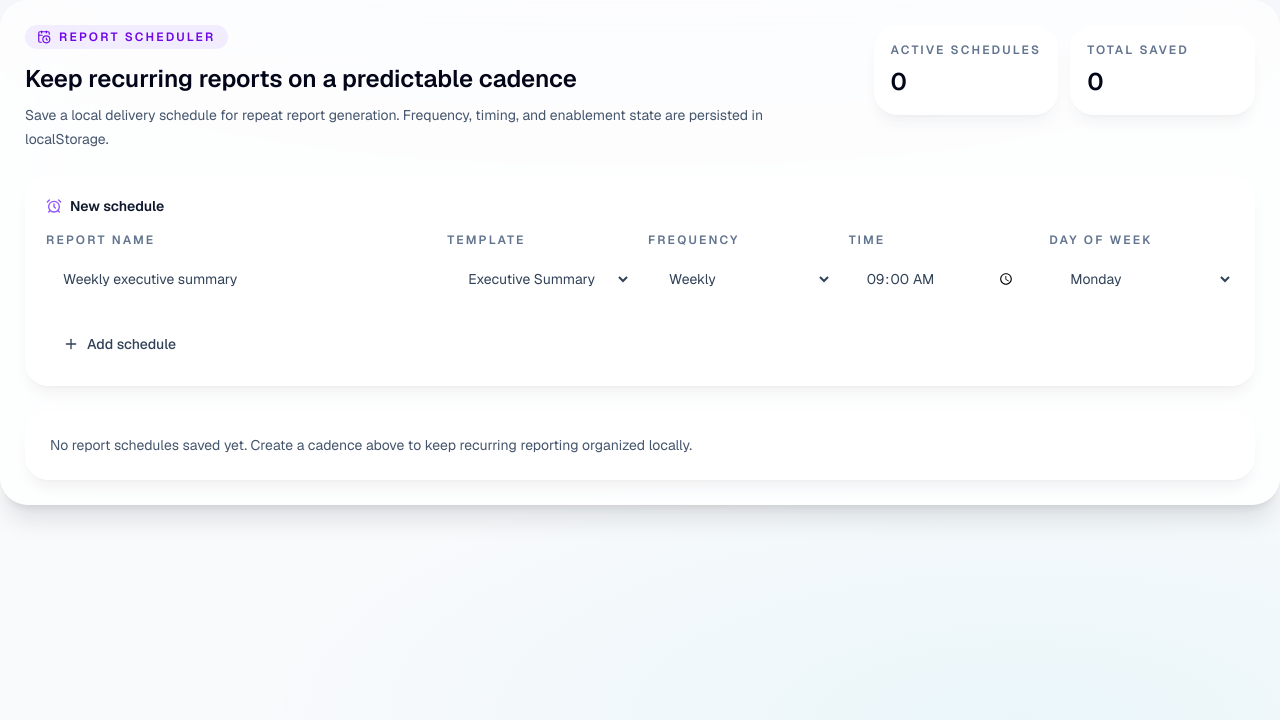
ReportScheduler › adds a weekly schedule with the default cadence details
Click the button "Add schedule" at [120, 344], box [46,323,193,365]
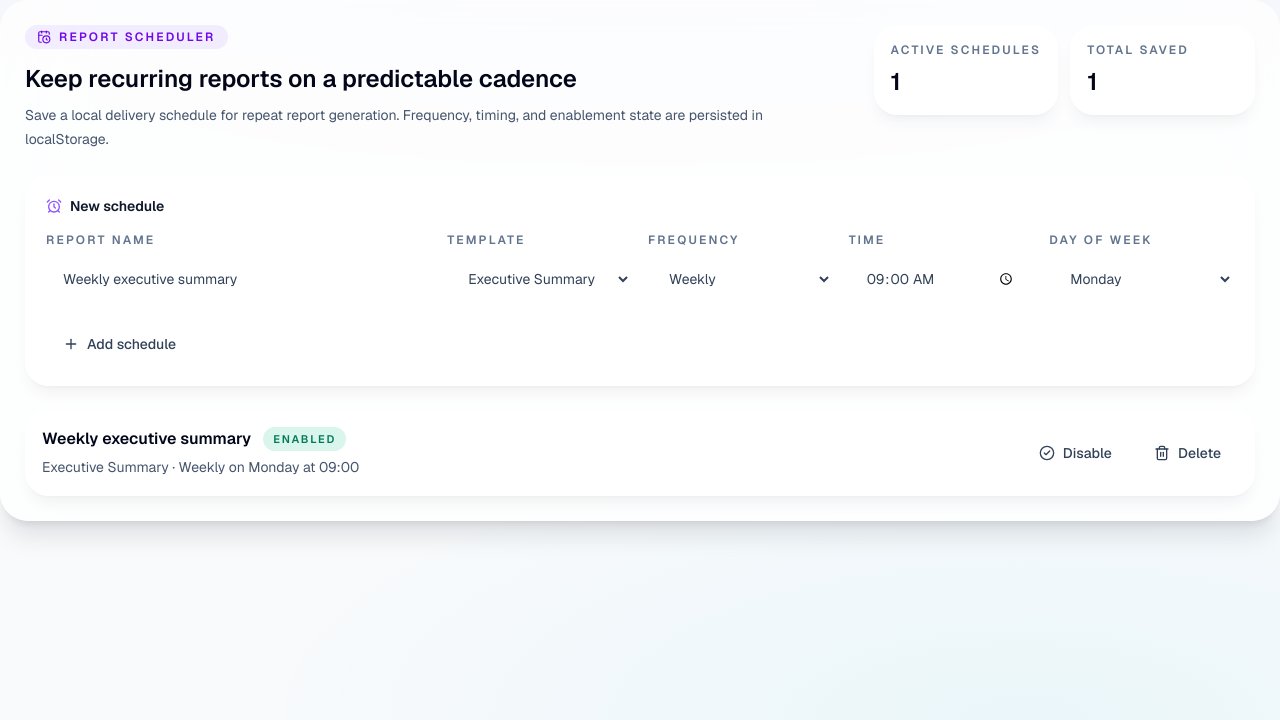
Expected: the text "Weekly executive summary" is shown, [42,427,251,451]
Expected: the text "Executive Summary · Weekly on Monday at 09:00" is shown, [42,455,359,479]
